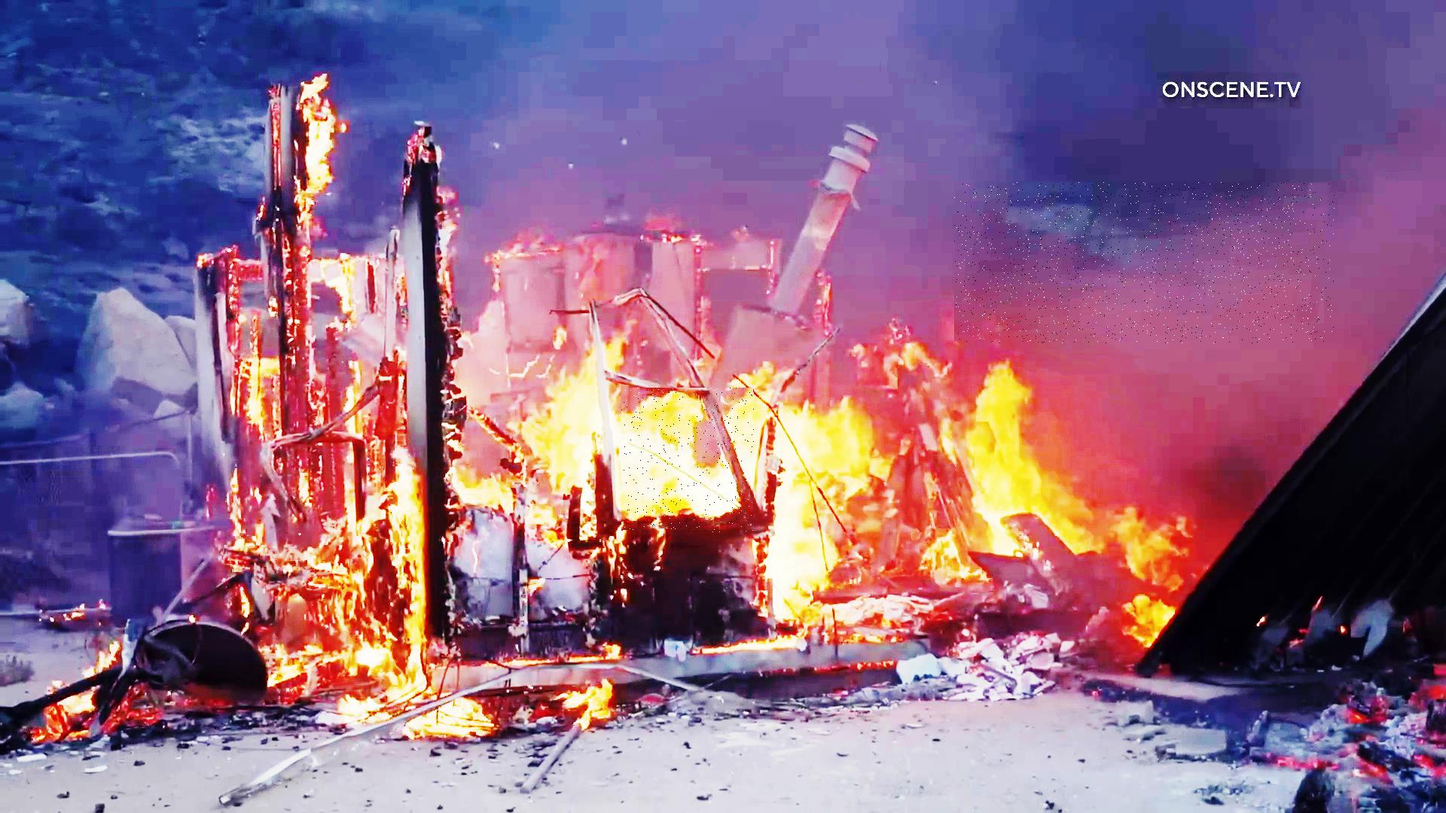fire: (622, 388, 754, 533)
smoke: (955, 183, 1335, 344)
